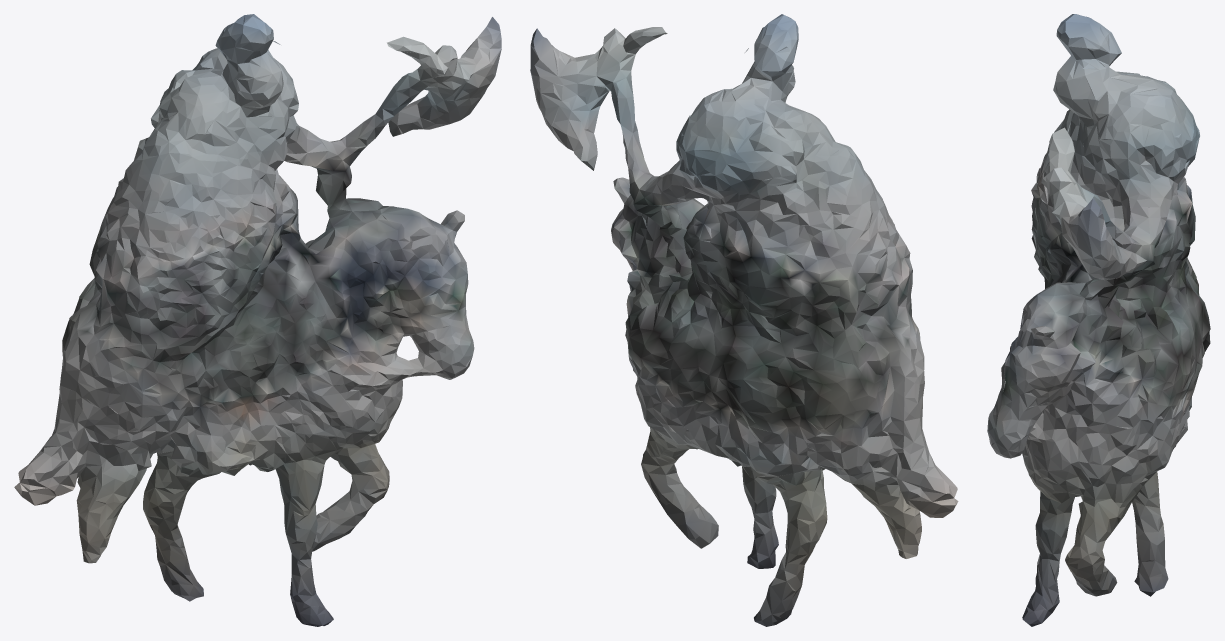
File: knight.glb
3 views of the same model, side by side, from view 1: azimuth 30°, elevation 25°; view 2: azimuth 150°, elevation 25°; view 3: azimuth 270°, elevation 25° (orthographic). The views are drawn at different scales.
Parts seen in each view (by area): view 1: world; view 2: world; view 3: world.
Part boxes in pixels (x1,y1,x2,y2): world: (14,14,501,626); world: (530,14,958,626); world: (987,14,1210,626).
Bounding box in the file's own units: 0.8017 × 1 × 0.3437.
